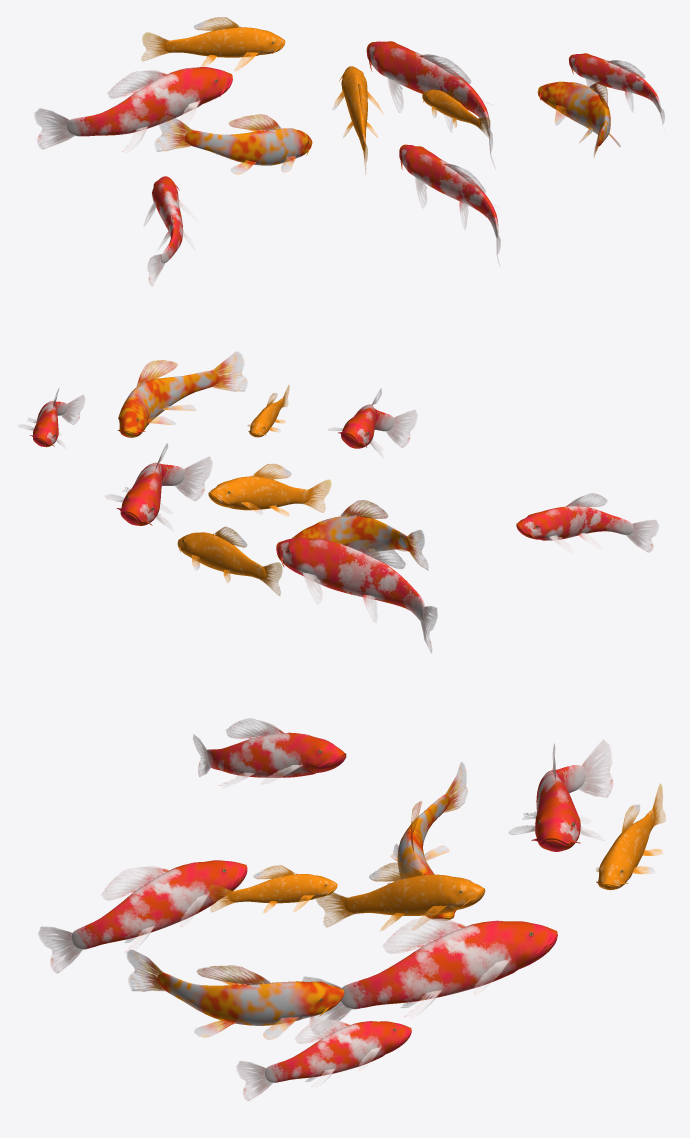
The model's file is koi_fish.glb.
3 views of the same model, one above another, from view 1: azimuth 30°, elevation 25°; view 2: azimuth 150°, elevation 25°; view 3: azimuth 270°, elevation 25° (orthographic). The views are drawn at different scales.
Visible parts, largest first — view 1: XI_SP_Koi_Fish.Shape; view 2: XI_SP_Koi_Fish.Shape; view 3: XI_SP_Koi_Fish.Shape.
Boxes of the visible parts, left/top/right/bottom form: XI_SP_Koi_Fish.Shape: left=34, top=17, right=664, bottom=286; XI_SP_Koi_Fish.Shape: left=18, top=351, right=658, bottom=653; XI_SP_Koi_Fish.Shape: left=38, top=718, right=665, bottom=1100.
Size of the model in its own units: 1.37 by 0.2966 by 1.06.
1 material, 1 textured.
